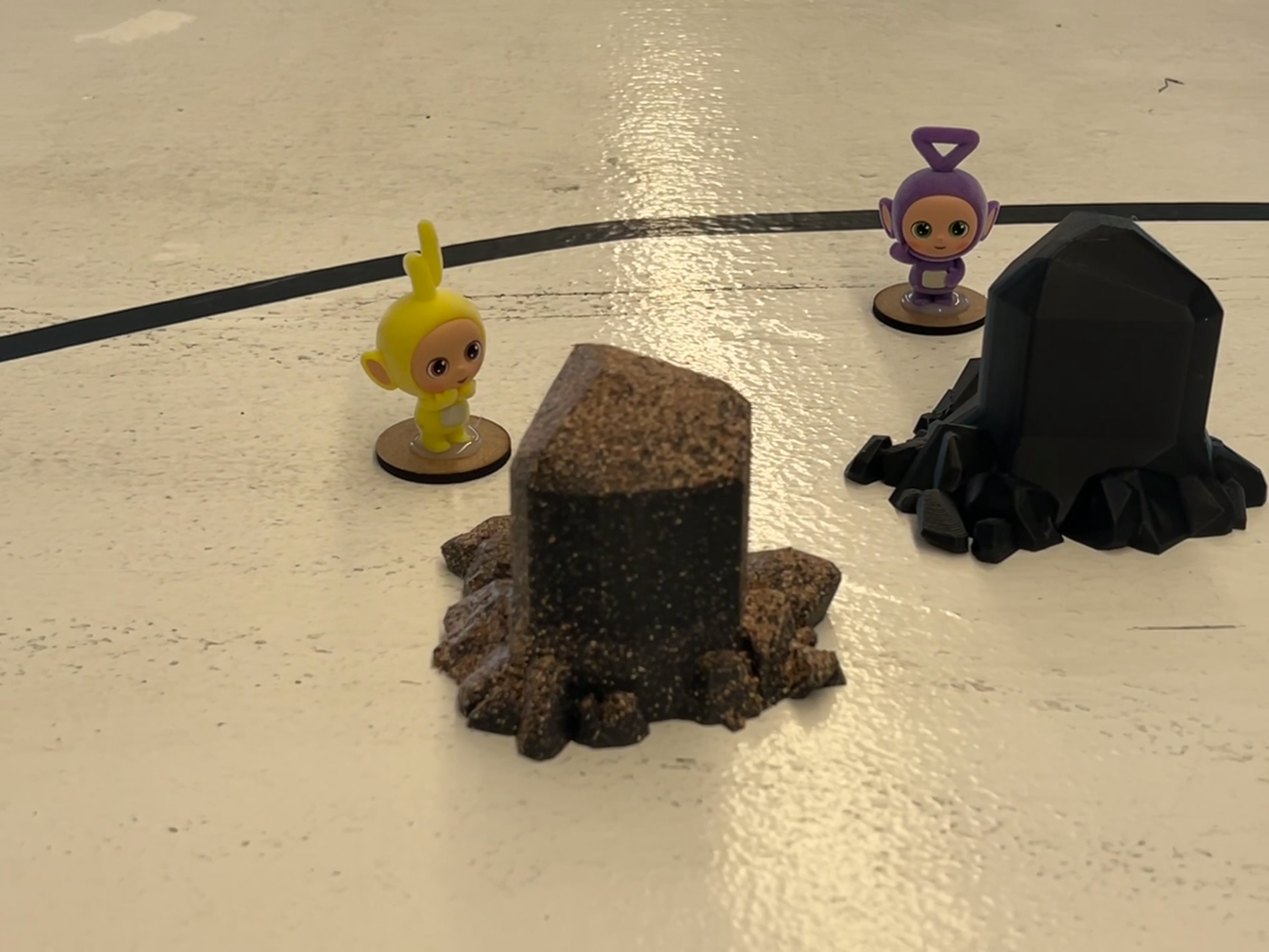teletubby: (362, 220, 485, 453), (879, 127, 999, 306)
